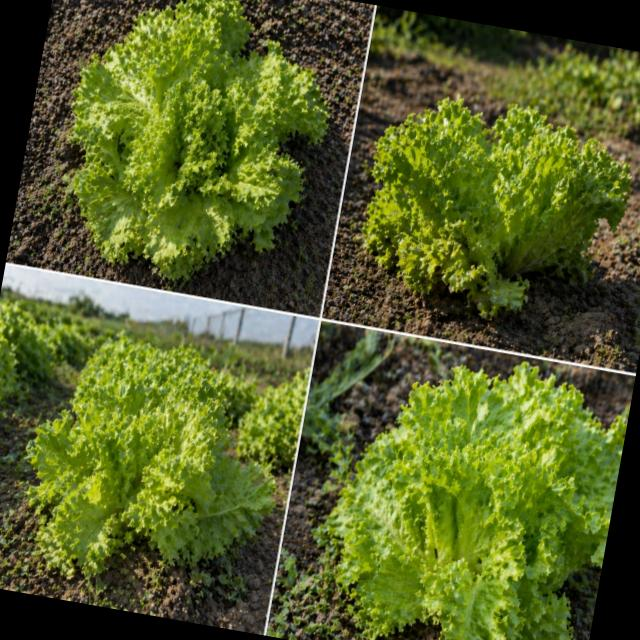lista_para_cosechar: (325, 363, 626, 640), (70, 0, 327, 279), (26, 337, 274, 576), (362, 97, 630, 316)
